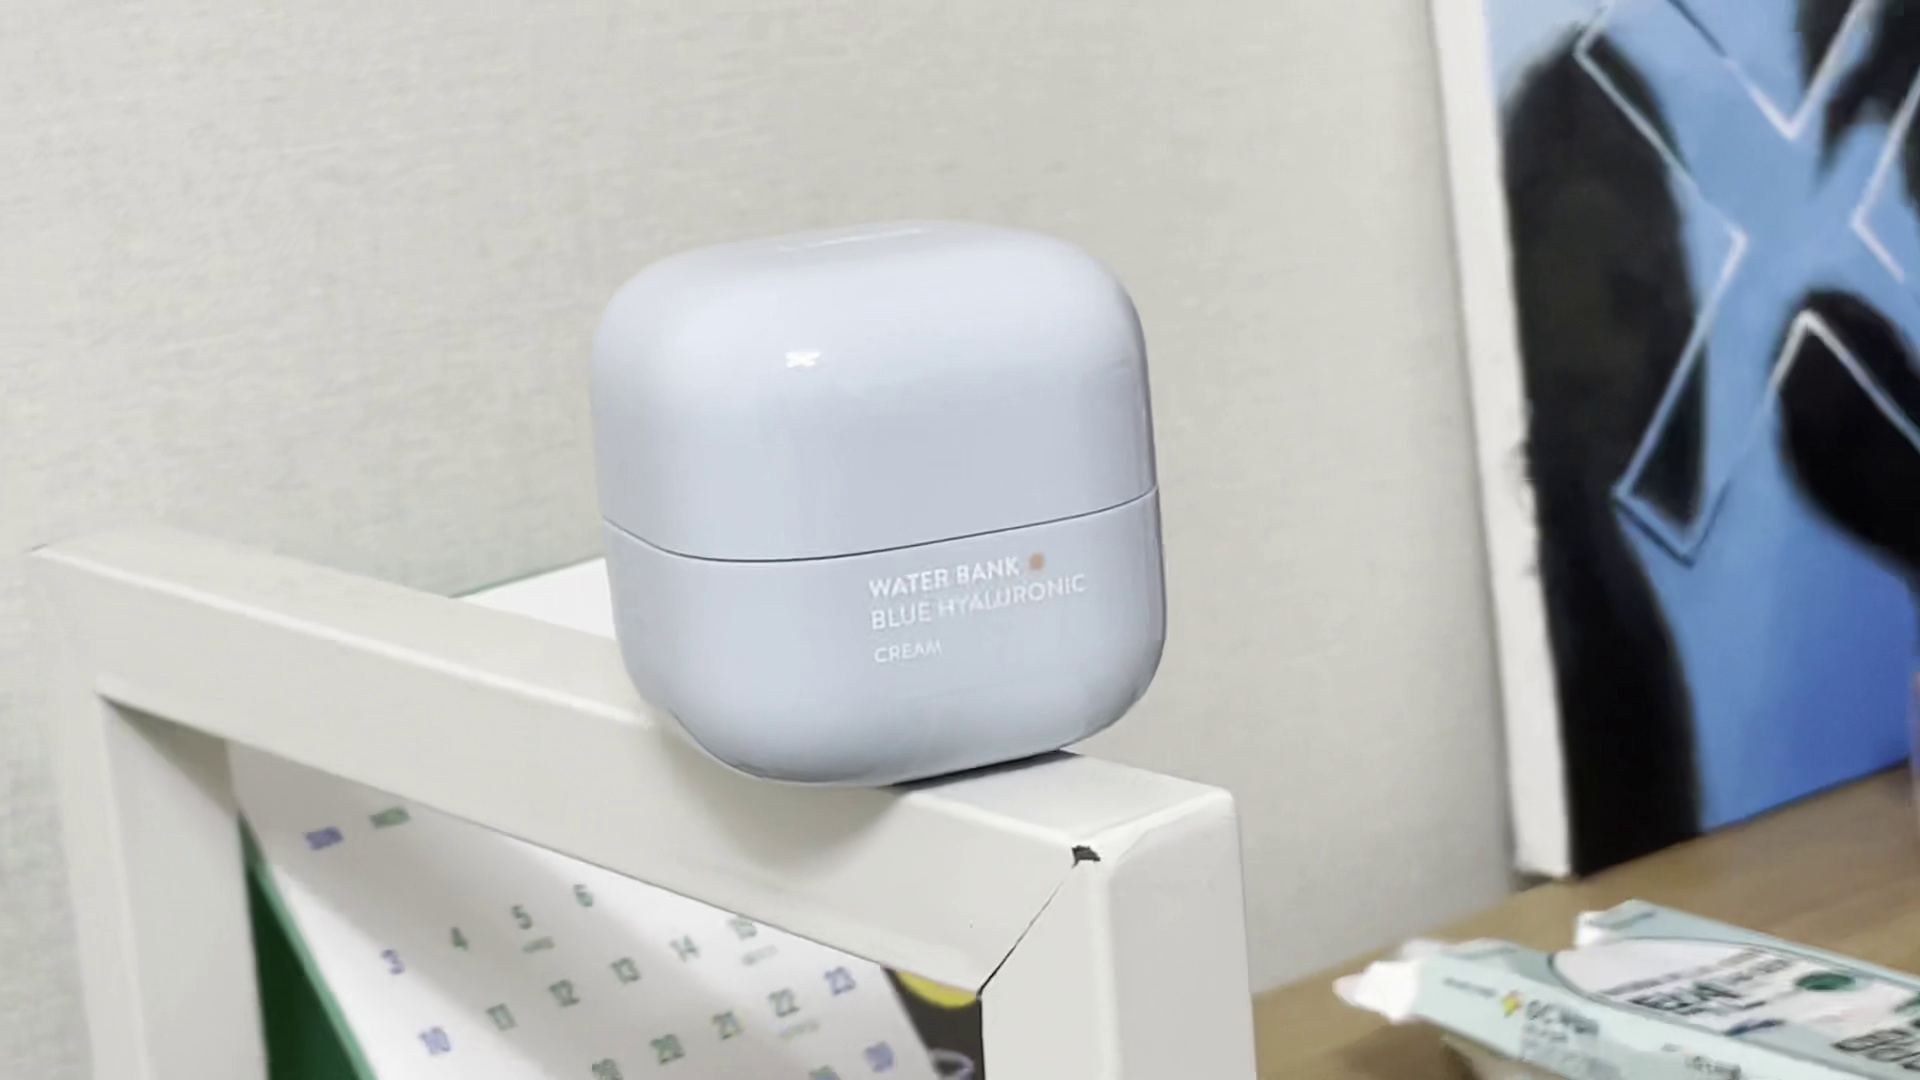cream: (578, 215, 1179, 789)
